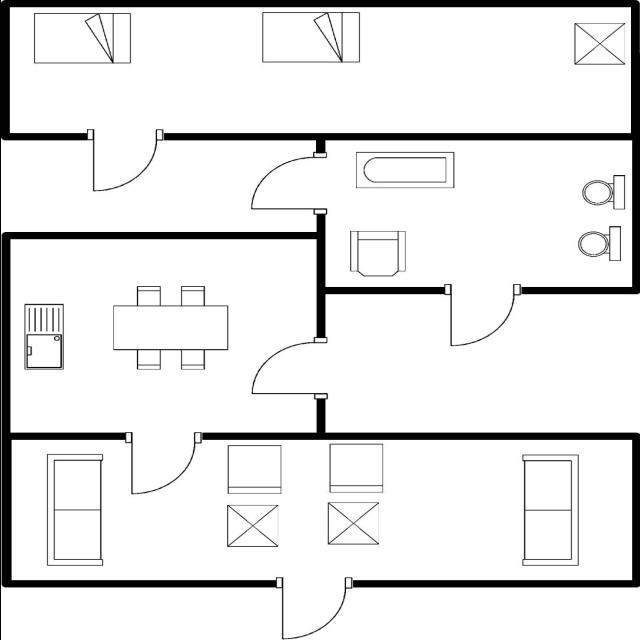armchair: (343, 226, 409, 278)
bed: (27, 11, 134, 66), (255, 10, 363, 64)
coffee_table: (342, 228, 409, 280), (322, 498, 386, 547), (569, 18, 629, 68), (222, 502, 282, 550)
dining_table: (106, 282, 232, 374)
large_sink: (575, 222, 625, 268), (576, 170, 630, 212)
large_sofa: (40, 449, 110, 569), (516, 449, 584, 569)
sink: (18, 297, 68, 375)
small_sofa: (220, 441, 286, 498), (326, 442, 388, 496)
tub: (350, 147, 458, 191)
